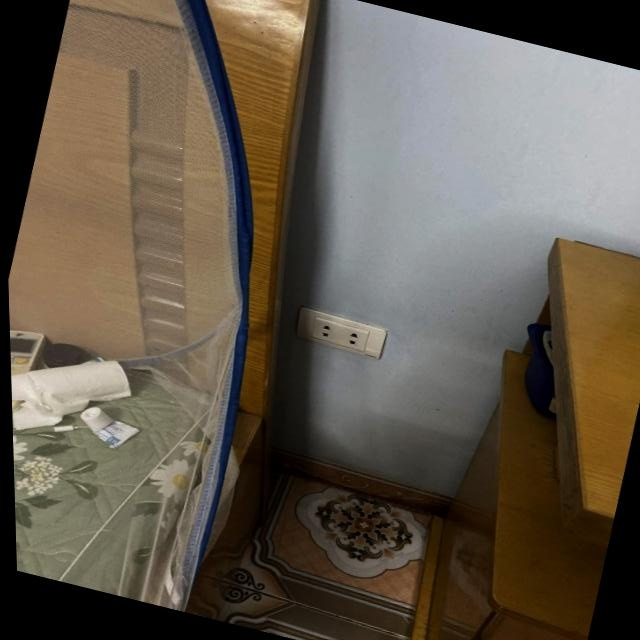outlet: (293, 304, 391, 360)
